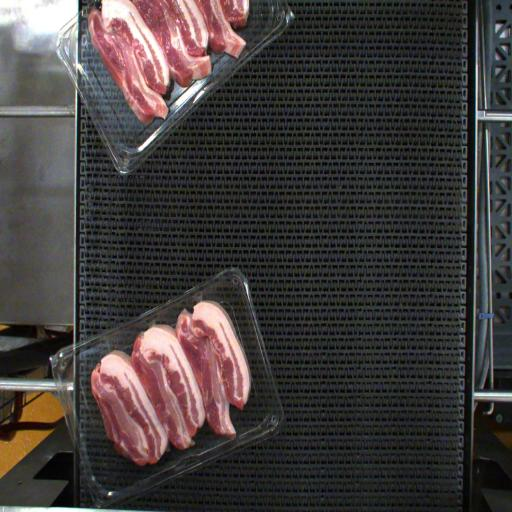packaging-error: (191, 284, 211, 313), (148, 315, 160, 334)
